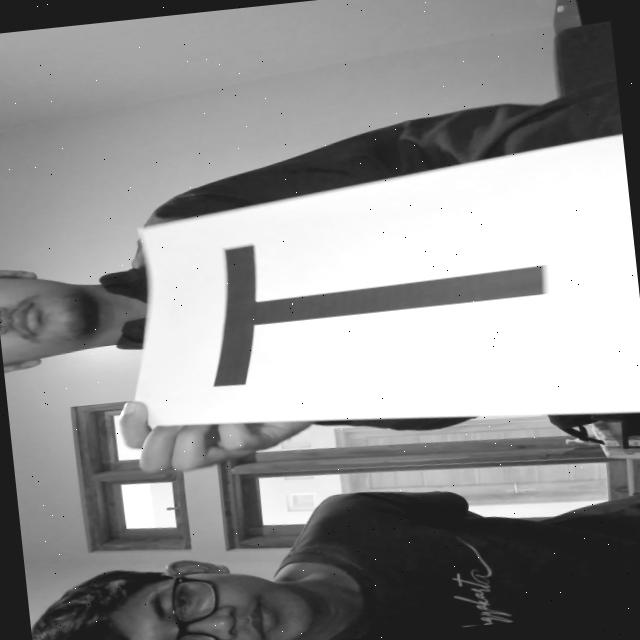t: (184, 198, 570, 396)
